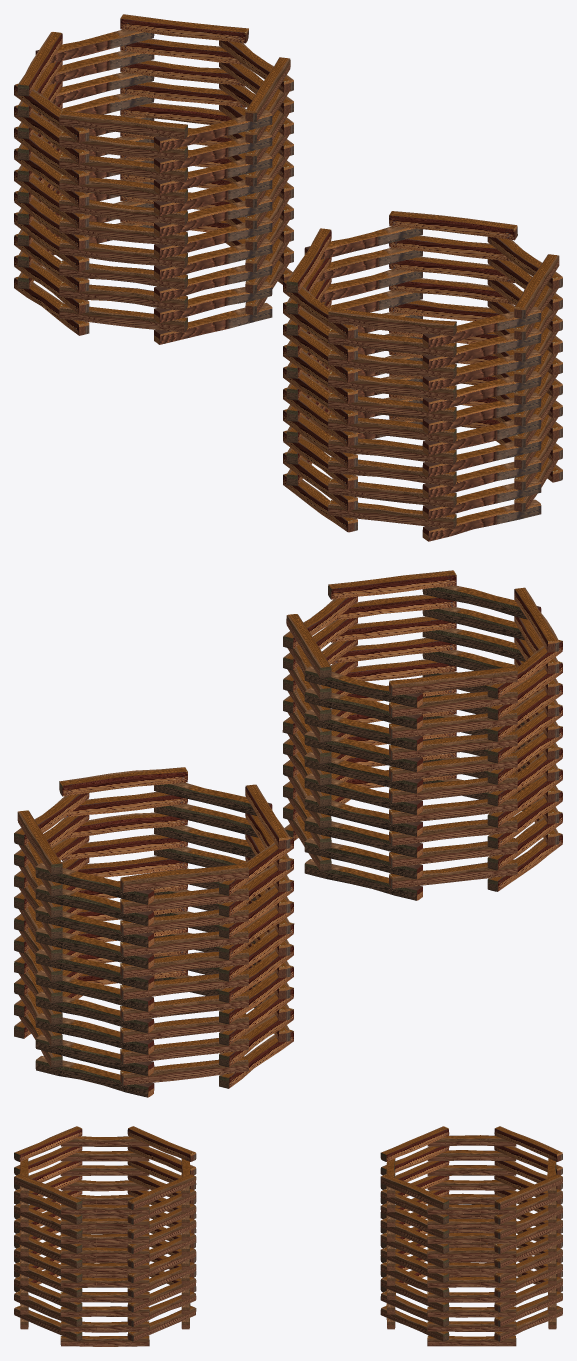
File: M10_Dynamic1Wood_0_1kg.fbx
3 views of the same model, one above another, from view 1: azimuth 30°, elevation 25°; view 2: azimuth 150°, elevation 25°; view 3: azimuth 270°, elevation 25° (orthographic). The views are drawn at different scales.
Parts seen in each view (by area): view 1: D1Box184, D1Box492, D1Box181, D1Box489, D1Box217, D1Box88, D1Box456, D1Box64, D1Box457, D1Box192, D1Box609, D1Box481 (+76 smaller); view 2: D1Box182, D1Box491, D1Box490, D1Box183, D1Box71, D1Box458, D1Box87, D1Box215, D1Box474, D1Box207, D1Box466, D1Box482 (+77 smaller); view 3: D1Box201, D1Box209, D1Box81, D1Box592, D1Box224, D1Box193, D1Box185, D1Box616, D1Box57, D1Box600, D1Box472, D1Box65 (+75 smaller).
Boxes of the visible parts, x1,y1,x2,y2 form: D1Box184: [59, 110, 187, 139]; D1Box492: [389, 211, 517, 240]; D1Box181: [120, 14, 248, 43]; D1Box489: [328, 307, 456, 336]; D1Box217: [59, 217, 187, 246]; D1Box88: [59, 303, 187, 332]; D1Box456: [328, 414, 456, 443]; D1Box64: [59, 239, 187, 268]; D1Box457: [328, 393, 456, 421]; D1Box192: [59, 131, 187, 160]; D1Box609: [328, 435, 456, 464]; D1Box481: [328, 328, 456, 357]; D1Box182: [59, 767, 187, 796]; D1Box491: [328, 570, 456, 599]; D1Box490: [389, 666, 517, 695]; D1Box183: [120, 863, 248, 892]; D1Box71: [120, 1013, 248, 1042]; D1Box458: [389, 752, 517, 781]; D1Box87: [120, 1056, 248, 1085]; D1Box215: [120, 949, 248, 978]; D1Box474: [389, 709, 517, 738]; D1Box207: [120, 927, 248, 956]; D1Box466: [389, 731, 517, 759]; D1Box482: [389, 688, 517, 717]; D1Box201: [427, 1247, 516, 1258]; D1Box209: [427, 1262, 516, 1273]; D1Box81: [427, 1335, 516, 1346]; D1Box592: [60, 1335, 149, 1346]; D1Box224: [427, 1276, 516, 1287]; D1Box193: [427, 1232, 516, 1243]; D1Box185: [427, 1218, 516, 1229]; D1Box616: [60, 1292, 149, 1302]; D1Box57: [427, 1292, 516, 1302]; D1Box600: [60, 1321, 149, 1332]; D1Box472: [60, 1247, 149, 1258]; D1Box65: [427, 1306, 516, 1317].
Size of what is drawn, in the model's own units: 45.22 by 40.58 by 136.
